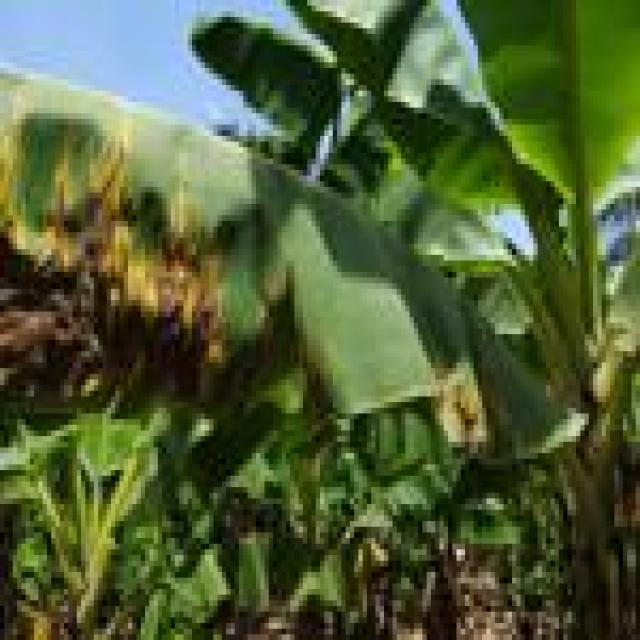Early_rust: (0, 62, 256, 425), (412, 338, 510, 492)
